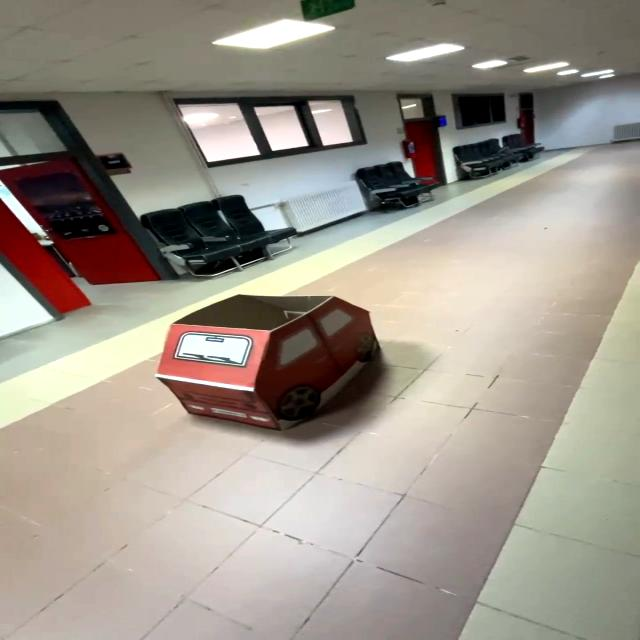red_car: (156, 289, 408, 439)
